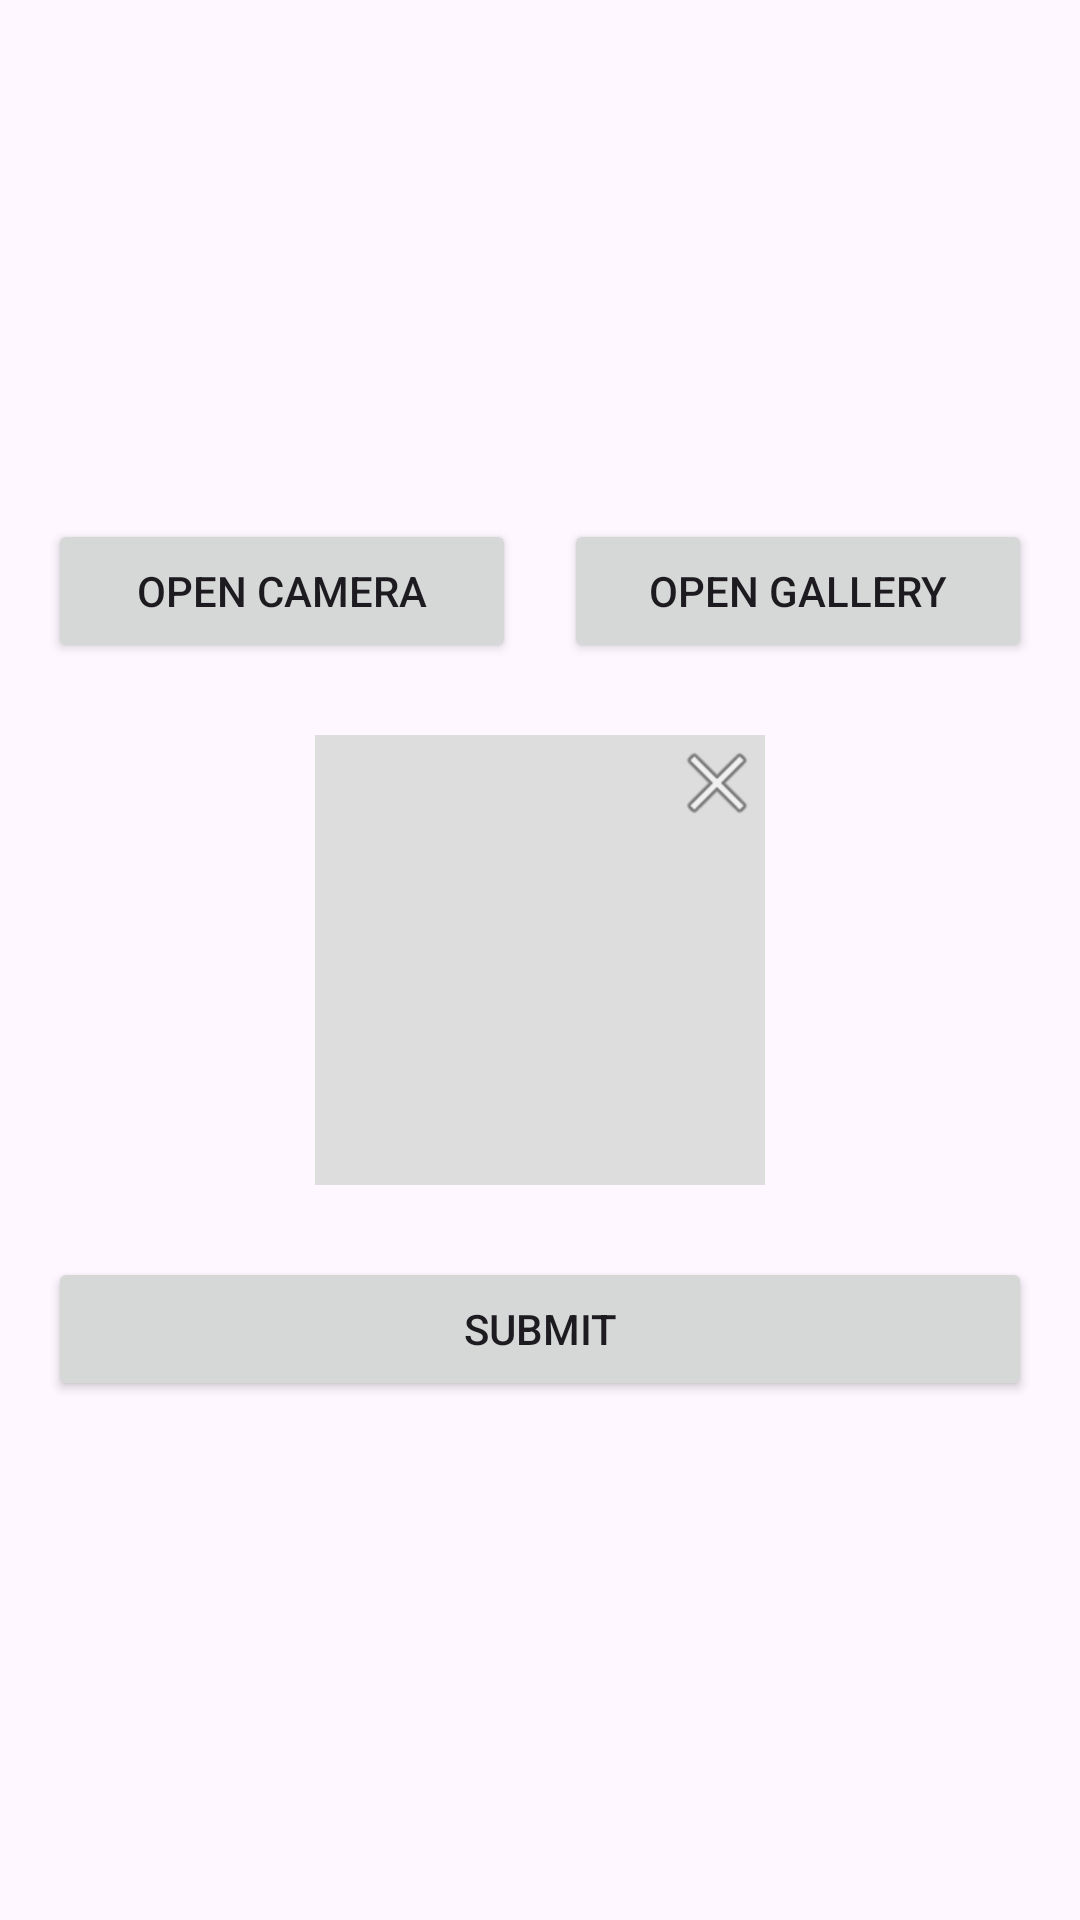

Icon bounding boxes for this 1080x1920 phone screenshot, format (x1, y1, x2, y2):
Delete image: (687, 753, 747, 813)
